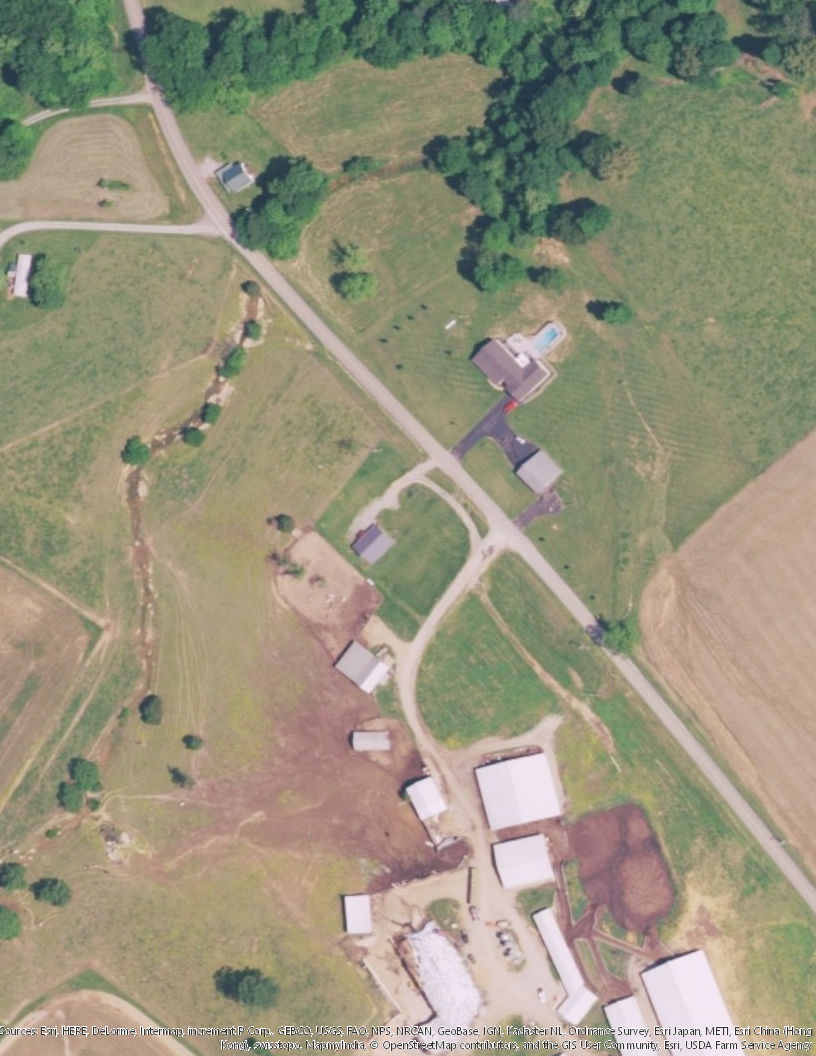cafo: (390, 912, 493, 1050), (633, 937, 743, 1056), (519, 905, 605, 1026), (471, 743, 574, 830), (601, 984, 664, 1056), (492, 830, 556, 887), (332, 639, 392, 690), (403, 766, 449, 830), (340, 888, 374, 935)
